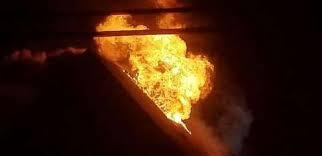fire: (90, 4, 216, 136)
